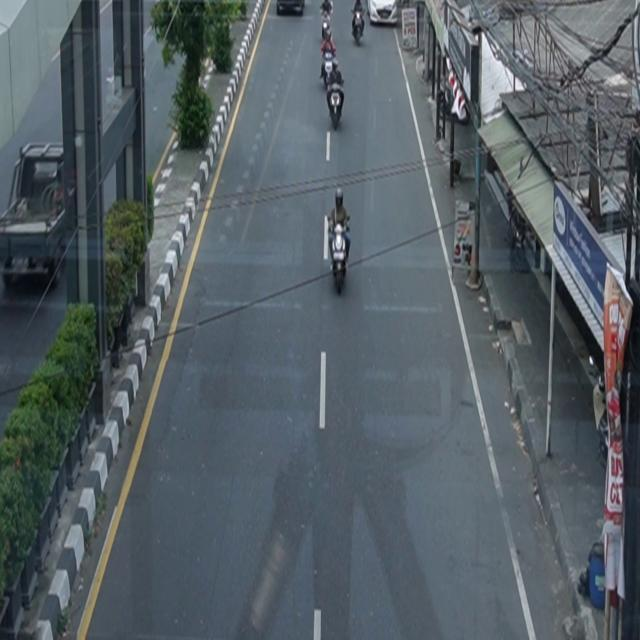car: (368, 1, 398, 26), (277, 1, 305, 16)
truck: (1, 142, 68, 290)
